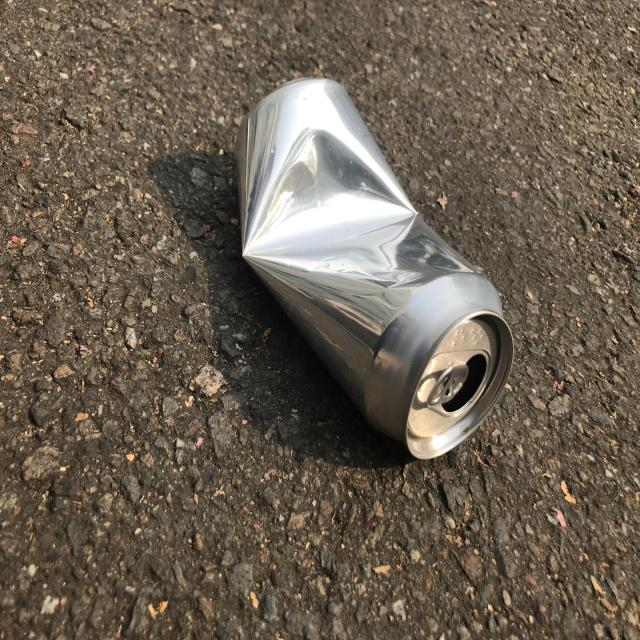can: (236, 78, 514, 459)
